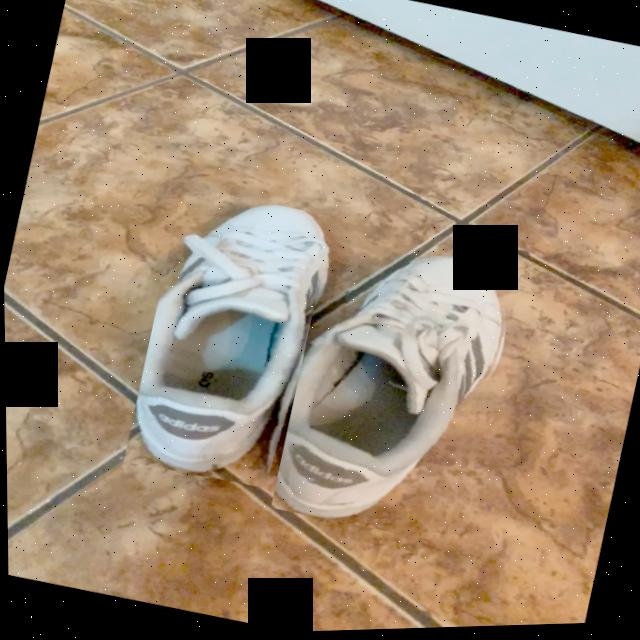shoe: (272, 258, 502, 523), (135, 207, 327, 477)
